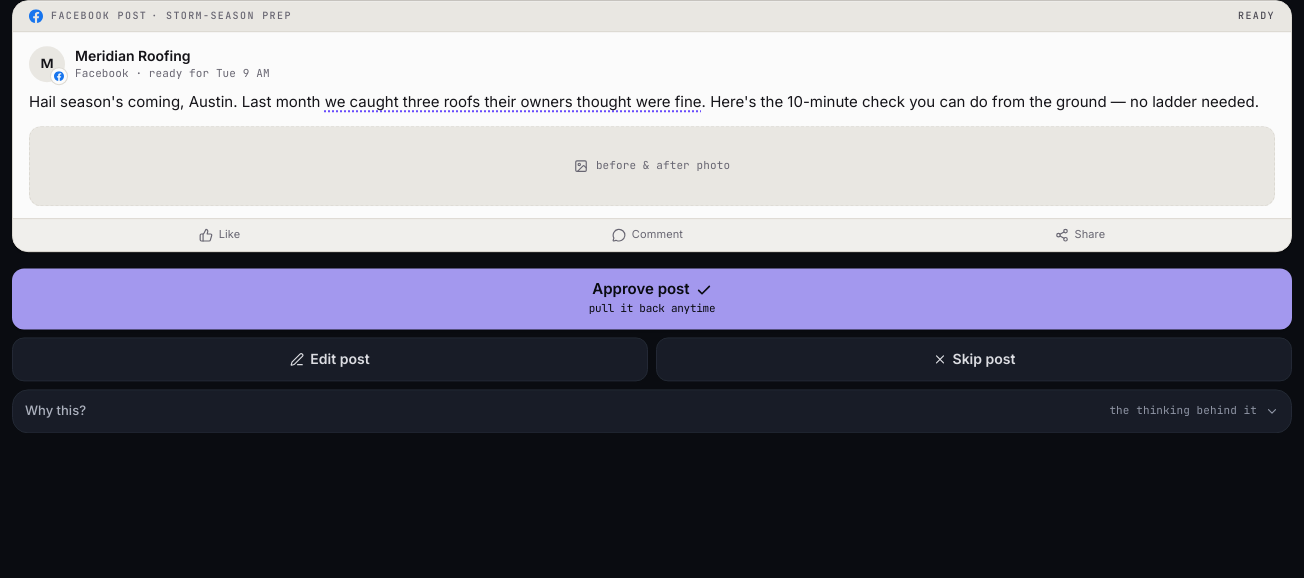
Test case: CardStack (store-driven) › guardrail diff opens on tap (protection, not warning)
Skip to Dave's second draft, which carries the softened claim.
What coordinates should you click on to do the following:
click the button "Skip post"
I would click on:
 (974, 359)
Its box is x1=656 y1=337 x2=1292 y2=381.
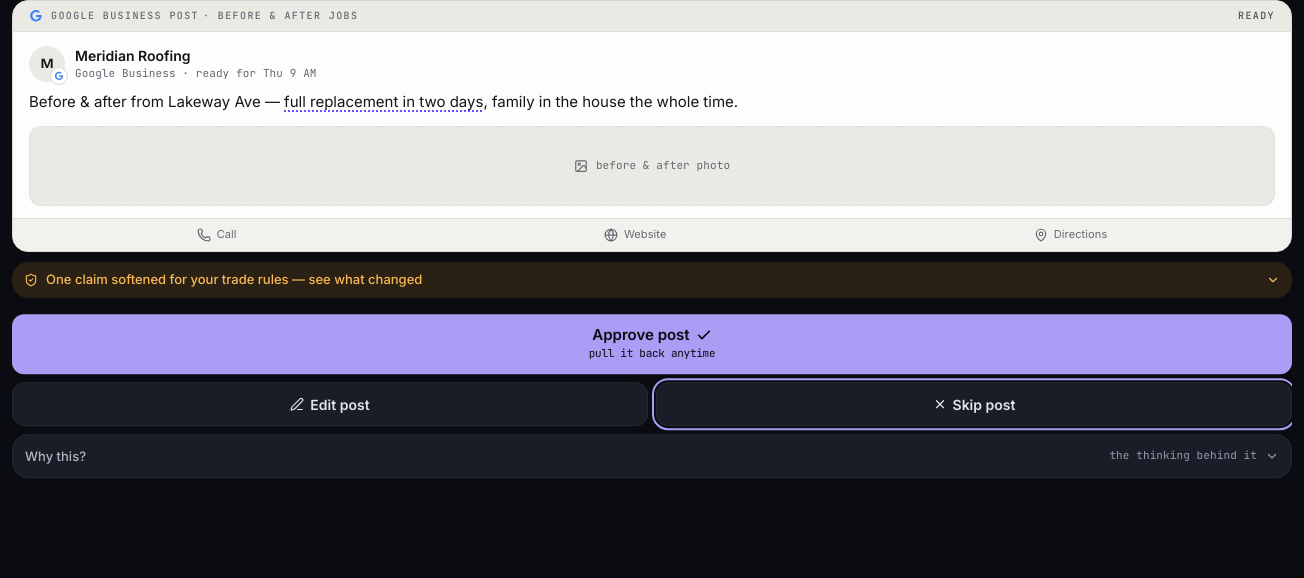
What coordinates should you click on to do the following:
click the button "One claim softened for your trade rules — see what changed"
I would click on:
 (234, 279)
Its box is x1=12 y1=262 x2=1292 y2=298.
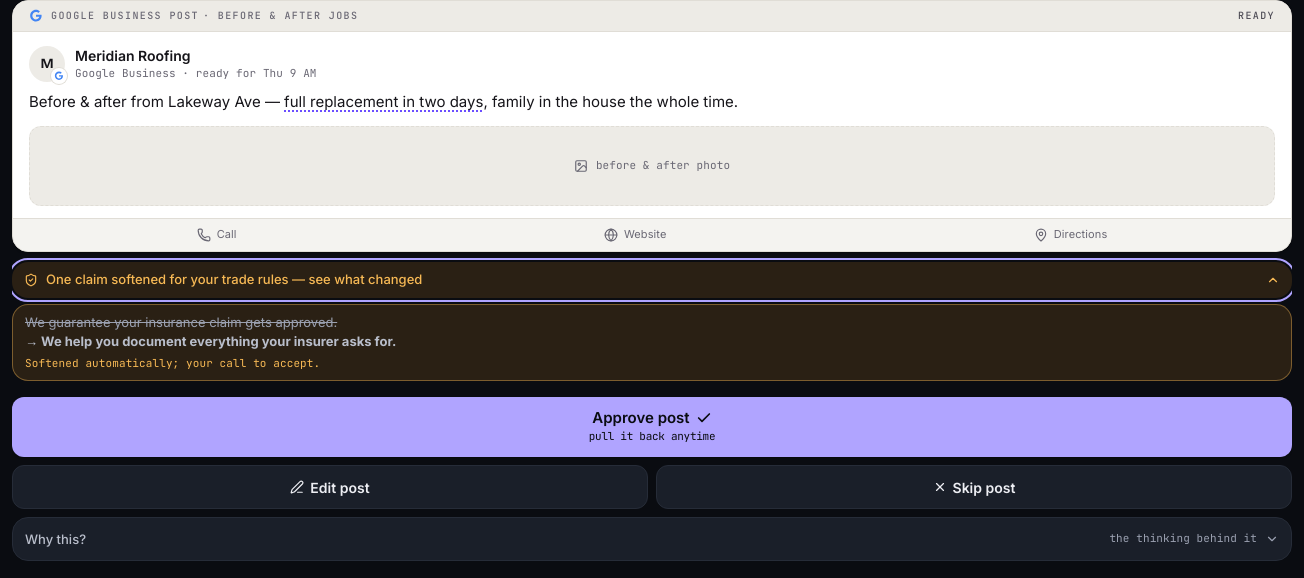
expect the element with test id "guardrail-diff" shows "We help you document": met, box x1=41 y1=333 x2=396 y2=349
